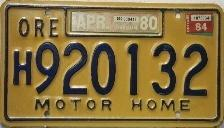0: (90, 40, 118, 97)
1: (124, 41, 143, 98)
2: (182, 40, 212, 98), (62, 40, 91, 96)
3: (152, 41, 178, 96)
9: (35, 40, 61, 95)
H: (11, 46, 35, 89)
